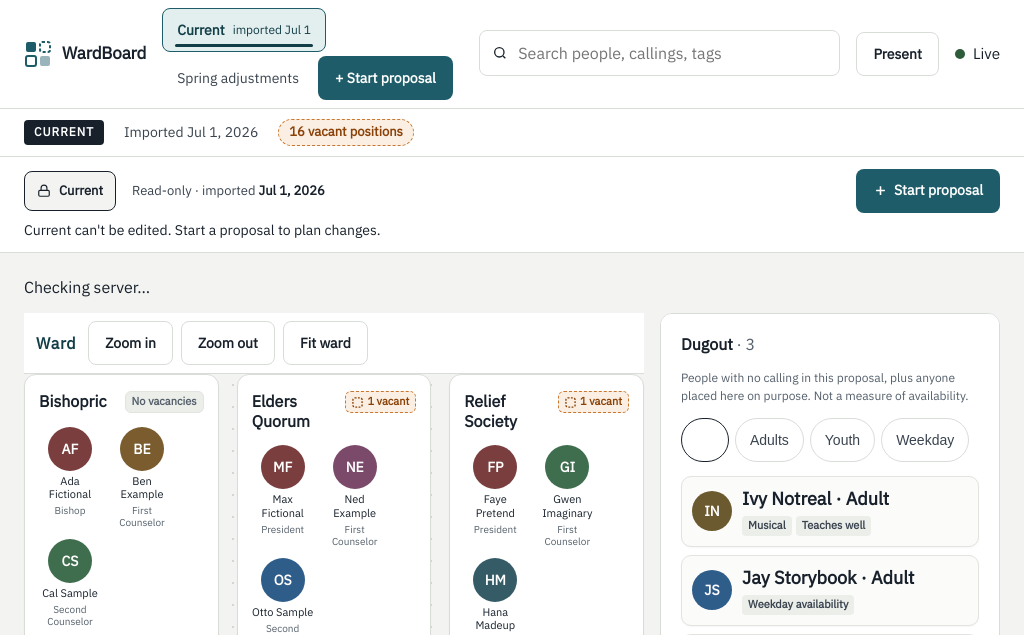
Test: person-panel › the note body never appears in the shell outside the dialog
This screenshot has width=1024, height=635.
Click the tab "Spring adjustments".
click(238, 78)  # box [162,56,314,100]
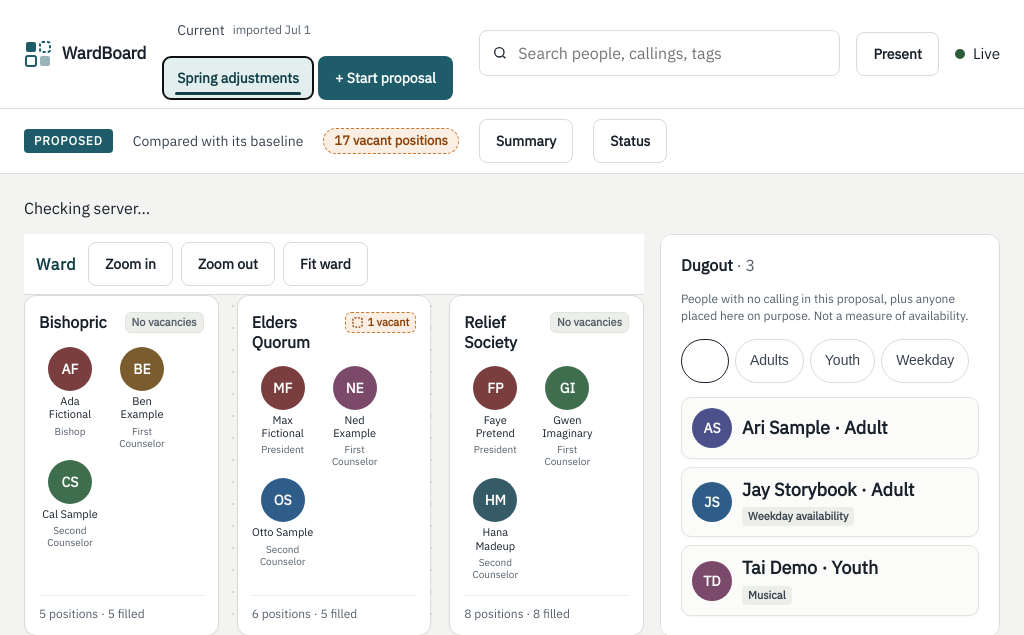
Click the text "Jay Storybook · Adult".
click(828, 489)  # box [742,478,914,501]
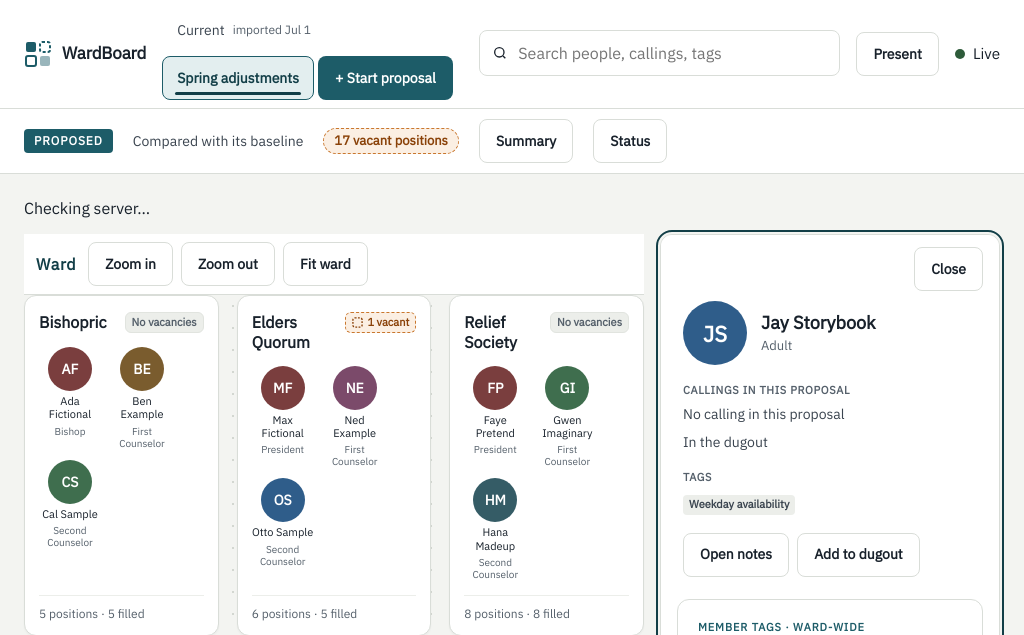
Check: the text "Travels for work most weekdays in March." is not shown
Check: the element named "Person: Jay Storybook" is shown, box [661,291,999,599]
Click the button "Open notes".
click(736, 555)  # box [683,533,789,577]
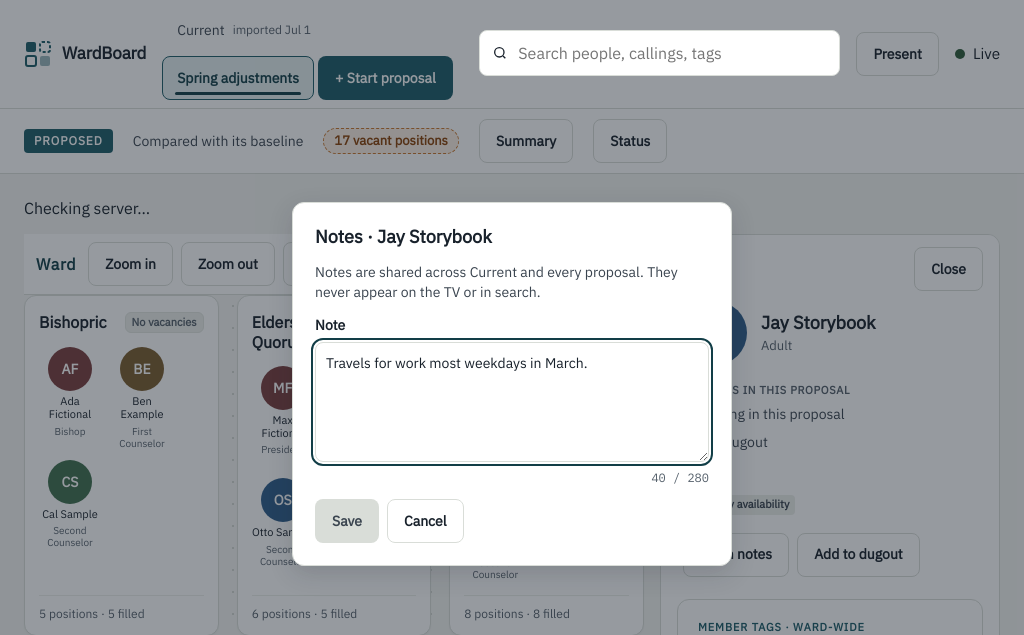
Check: the dialog "Notes · Jay Storybook" is shown, box [292,202,732,566]
